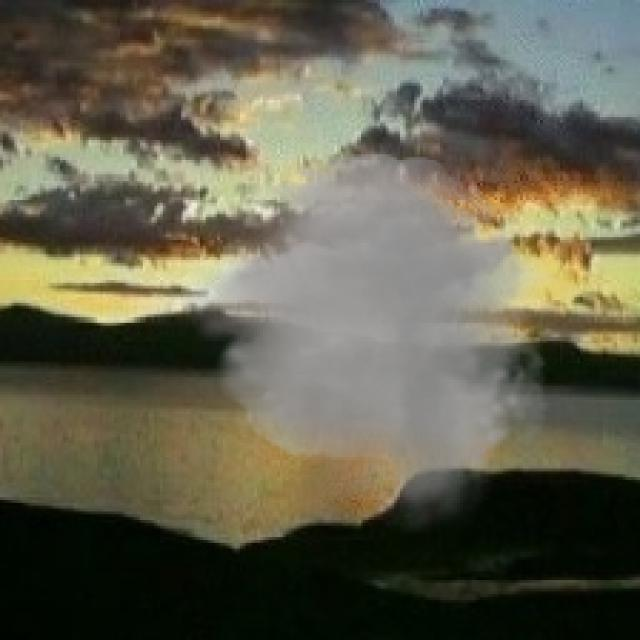smoke: (171, 143, 563, 534)
